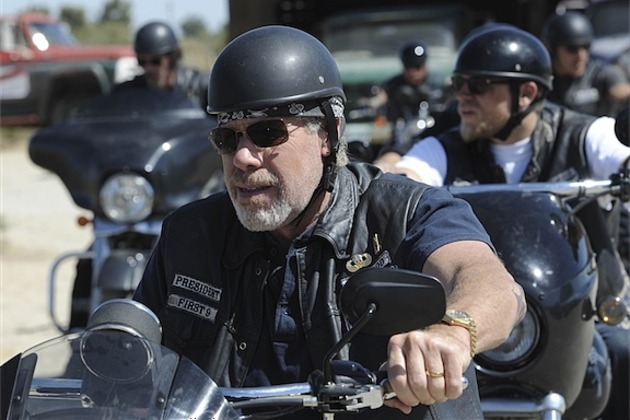helmet: (200, 22, 351, 128), (446, 21, 558, 101), (543, 7, 601, 53), (129, 17, 182, 58), (398, 42, 431, 60)
